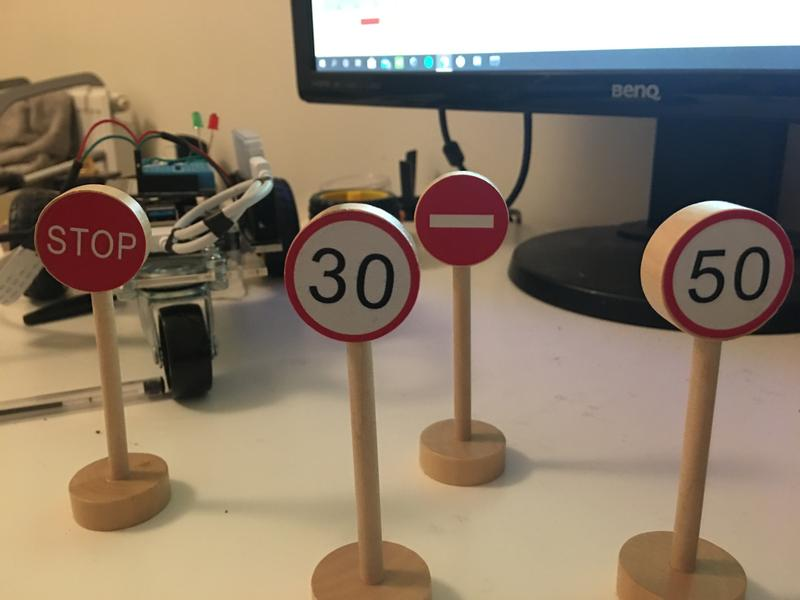Traffic_Sign_30: (284, 210, 416, 342)
Traffic_Sign_50: (661, 209, 796, 339)
Traffic_Sign_No_Entry: (416, 176, 508, 268)
Traffic_Sign_Stop: (35, 193, 146, 292)
